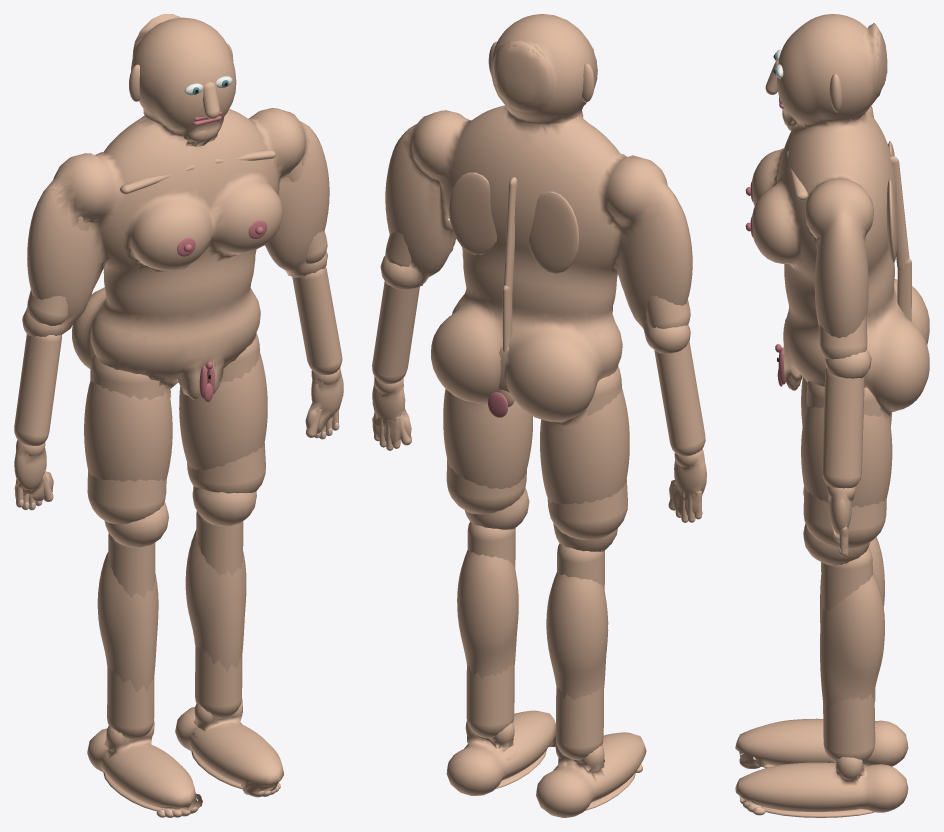
File: body-senior-weiblich-v2.glb
The picture shows the model from 3 angles, left to right: view 1: azimuth 30°, elevation 25°; view 2: azimuth 150°, elevation 25°; view 3: azimuth 270°, elevation 25°; orthographic projection.
Visible parts, largest first — view 1: zone__visual-surface-body-senior-weiblich, zone__surface-thigh-left, zone__surface-lower-leg-left, zone__surface-lower-leg-right, zone__surface-forearm-left, zone__surface-forearm-right, zone__surface-thigh-right, zone__surface-upper-arm-left, zone__surface-upper-arm-right; view 2: zone__visual-surface-body-senior-weiblich, zone__surface-lower-leg-right, zone__surface-lower-leg-left, zone__surface-forearm-left, zone__surface-thigh-left, zone__surface-forearm-right, zone__surface-scapula-left, zone__surface-scapula-right, zone__surface-thigh-right, zone__surface-upper-arm-left, zone__surface-thoracic-spine, zone__surface-upper-arm-right (+1 smaller); view 3: zone__visual-surface-body-senior-weiblich, zone__surface-lower-leg-right, zone__surface-forearm-right, zone__surface-thigh-right, zone__surface-upper-arm-right, zone__surface-thoracic-spine, zone__surface-scapula-right, zone__surface-lumbar-spine, zone__surface-sole-right, zone__surface-ear-right.
Part boxes in pixels (left/top/right/bottom): zone__visual-surface-body-senior-weiblich: left=14, top=14, right=343, bottom=811; zone__surface-thigh-left: left=87, top=354, right=167, bottom=524; zone__surface-lower-leg-left: left=107, top=533, right=155, bottom=739; zone__surface-lower-leg-right: left=195, top=511, right=243, bottom=718; zone__surface-forearm-left: left=14, top=334, right=61, bottom=446; zone__surface-forearm-right: left=292, top=267, right=342, bottom=374; zone__surface-thigh-right: left=187, top=333, right=265, bottom=493; zone__surface-upper-arm-left: left=27, top=216, right=90, bottom=325; zone__surface-upper-arm-right: left=285, top=159, right=327, bottom=263; zone__visual-surface-body-senior-weiblich: left=372, top=14, right=706, bottom=817; zone__surface-lower-leg-right: left=466, top=522, right=515, bottom=738; zone__surface-lower-leg-left: left=556, top=543, right=604, bottom=760; zone__surface-forearm-left: left=654, top=341, right=705, bottom=456; zone__surface-thigh-left: left=547, top=366, right=627, bottom=540; zone__surface-forearm-right: left=372, top=281, right=419, bottom=383; zone__surface-scapula-left: left=528, top=191, right=579, bottom=273; zone__surface-scapula-right: left=448, top=172, right=496, bottom=254; zone__surface-thigh-right: left=446, top=459, right=526, bottom=514; zone__surface-upper-arm-left: left=630, top=229, right=690, bottom=328; zone__surface-thoracic-spine: left=503, top=177, right=517, bottom=293; zone__surface-upper-arm-right: left=385, top=172, right=426, bottom=266; zone__visual-surface-body-senior-weiblich: left=735, top=14, right=929, bottom=812; zone__surface-lower-leg-right: left=821, top=547, right=875, bottom=762; zone__surface-forearm-right: left=822, top=368, right=864, bottom=488; zone__surface-thigh-right: left=803, top=381, right=886, bottom=548; zone__surface-upper-arm-right: left=816, top=237, right=867, bottom=359; zone__surface-thoracic-spine: left=890, top=156, right=909, bottom=269; zone__surface-scapula-right: left=886, top=179, right=897, bottom=263; zone__surface-lumbar-spine: left=897, top=258, right=911, bottom=321; zone__surface-sole-right: left=762, top=806, right=874, bottom=817; zone__surface-ear-right: left=829, top=73, right=842, bottom=112.
Size of the model in its own units: 0.7503 by 1.65 by 0.3788.
